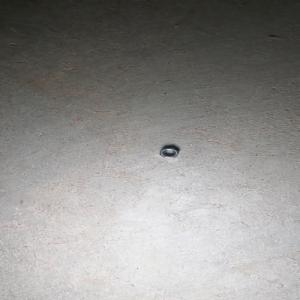Nut: (159, 147, 179, 159)
